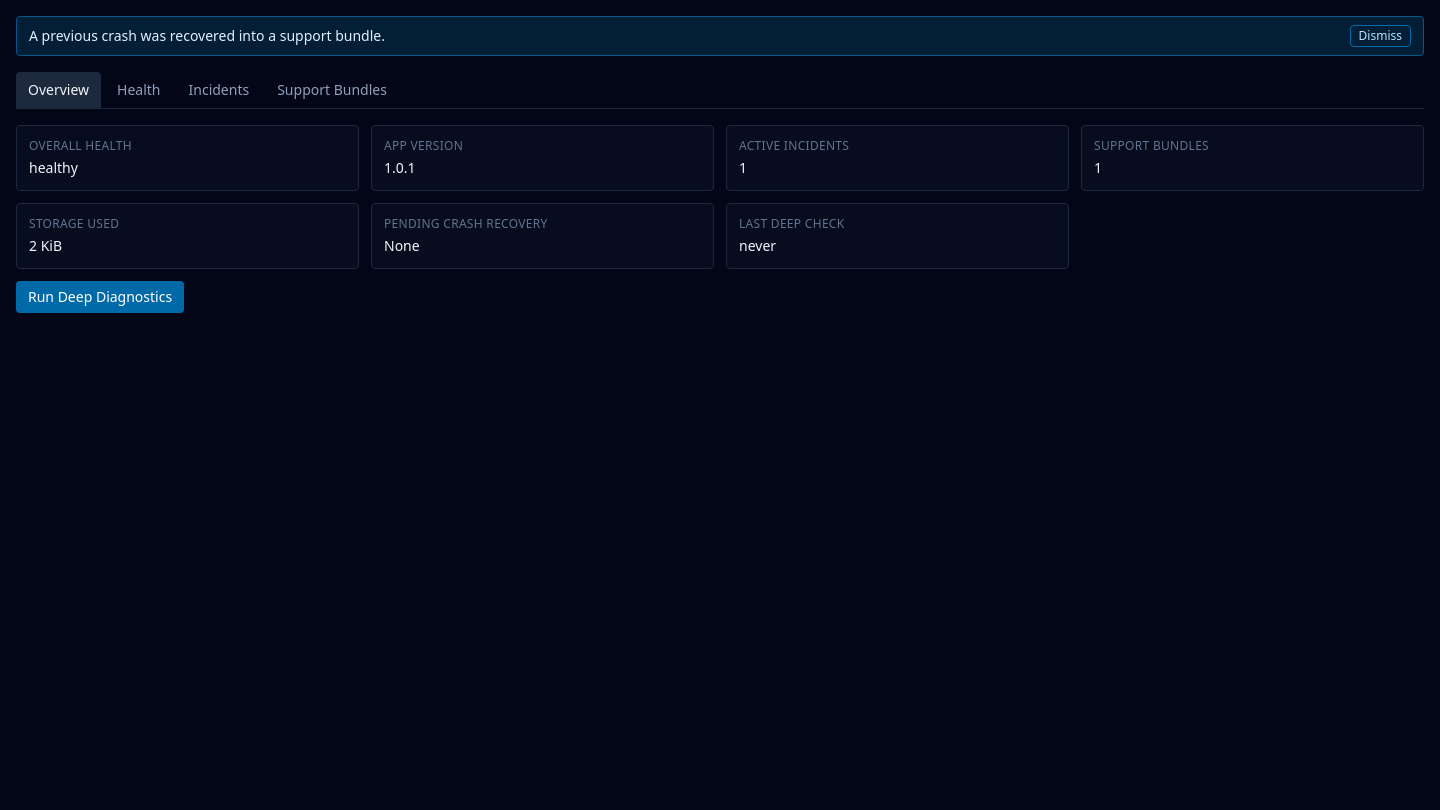
DiagnosticsPage › export failure surfaces typed error without crashing
Click the tab "Support Bundles". click: {"x": 332, "y": 90}
box: [265,72,399,108]
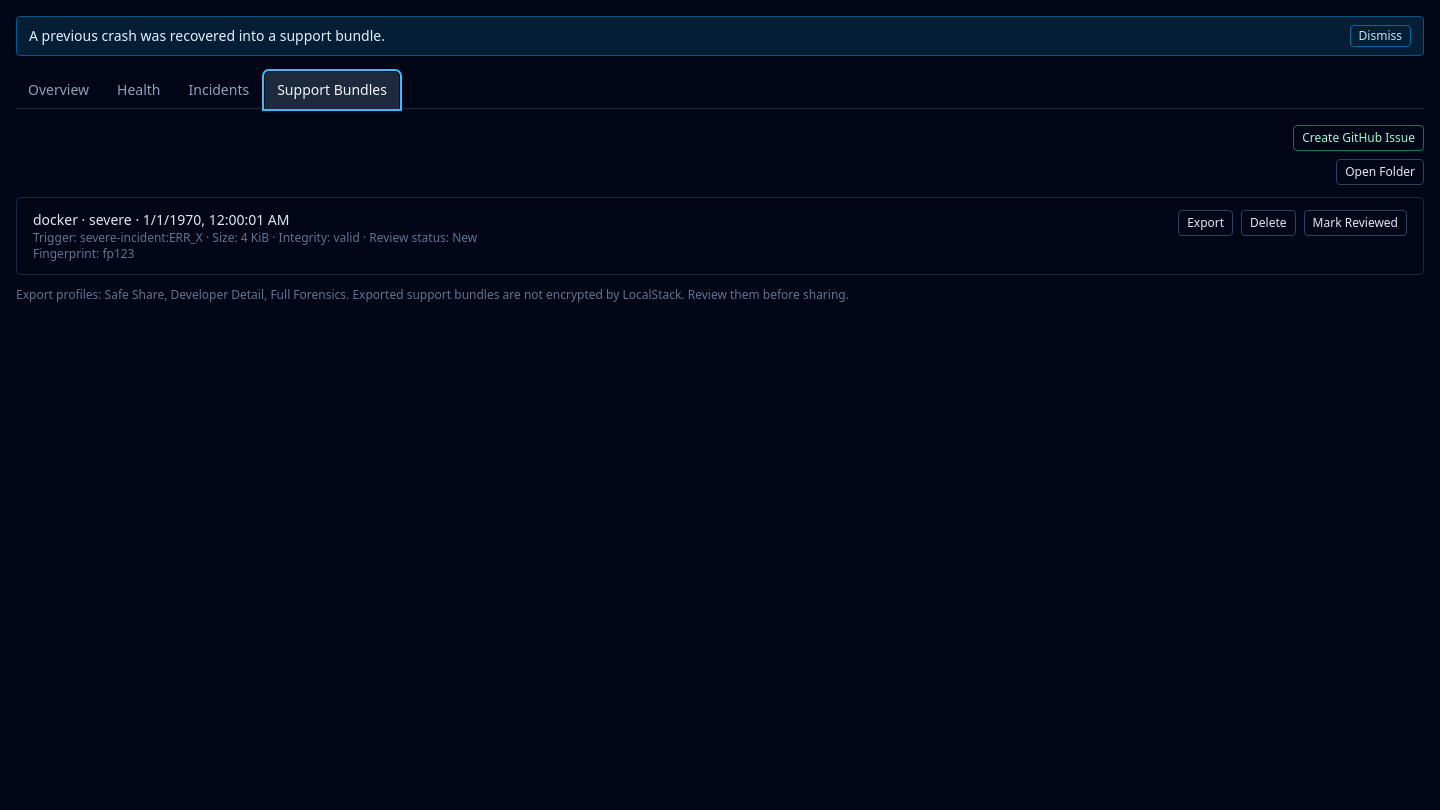
Click the button "Export". click: {"x": 1206, "y": 223}
box: [1178,210,1233,236]
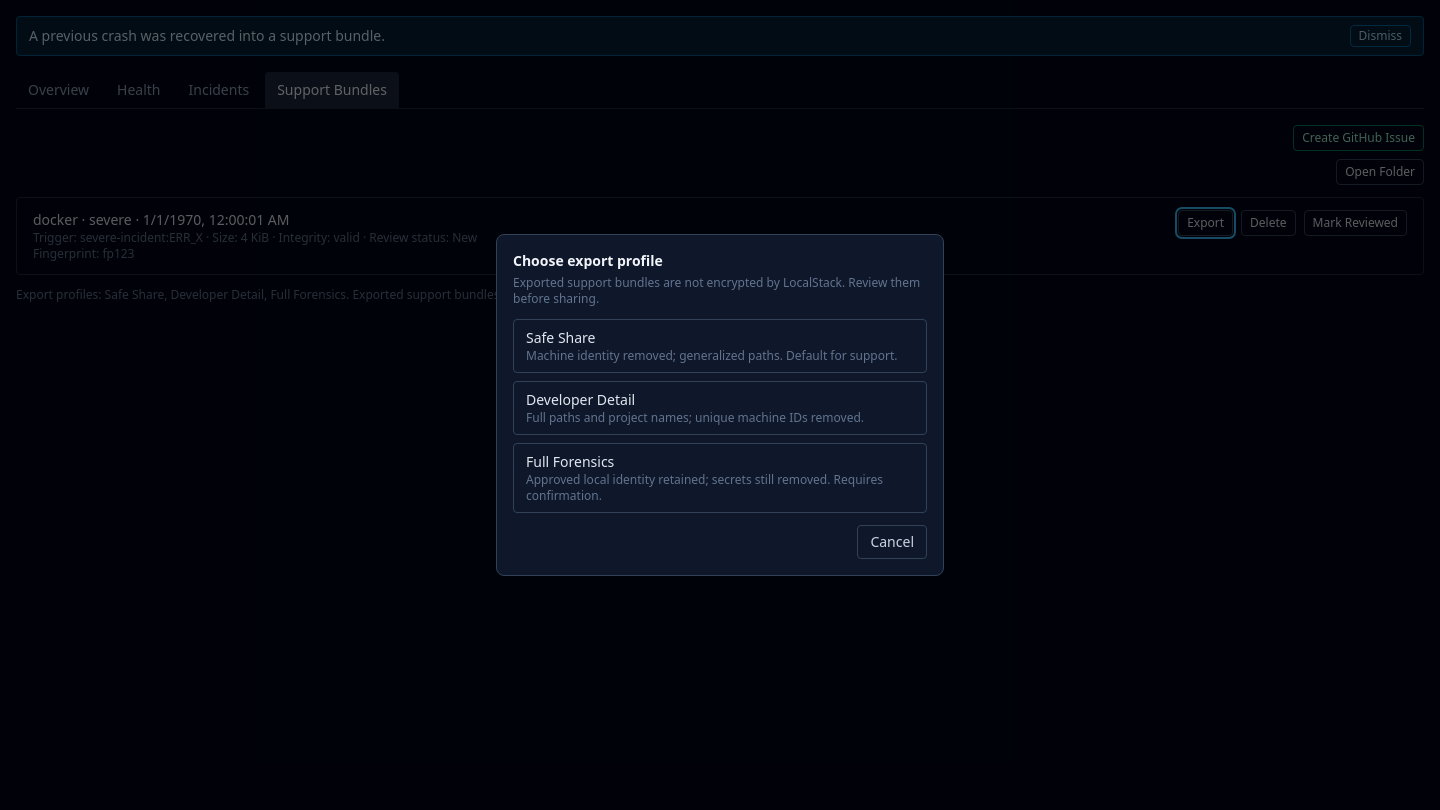
Click the button "Safe Share". click: {"x": 720, "y": 346}
box: [513,319,927,373]
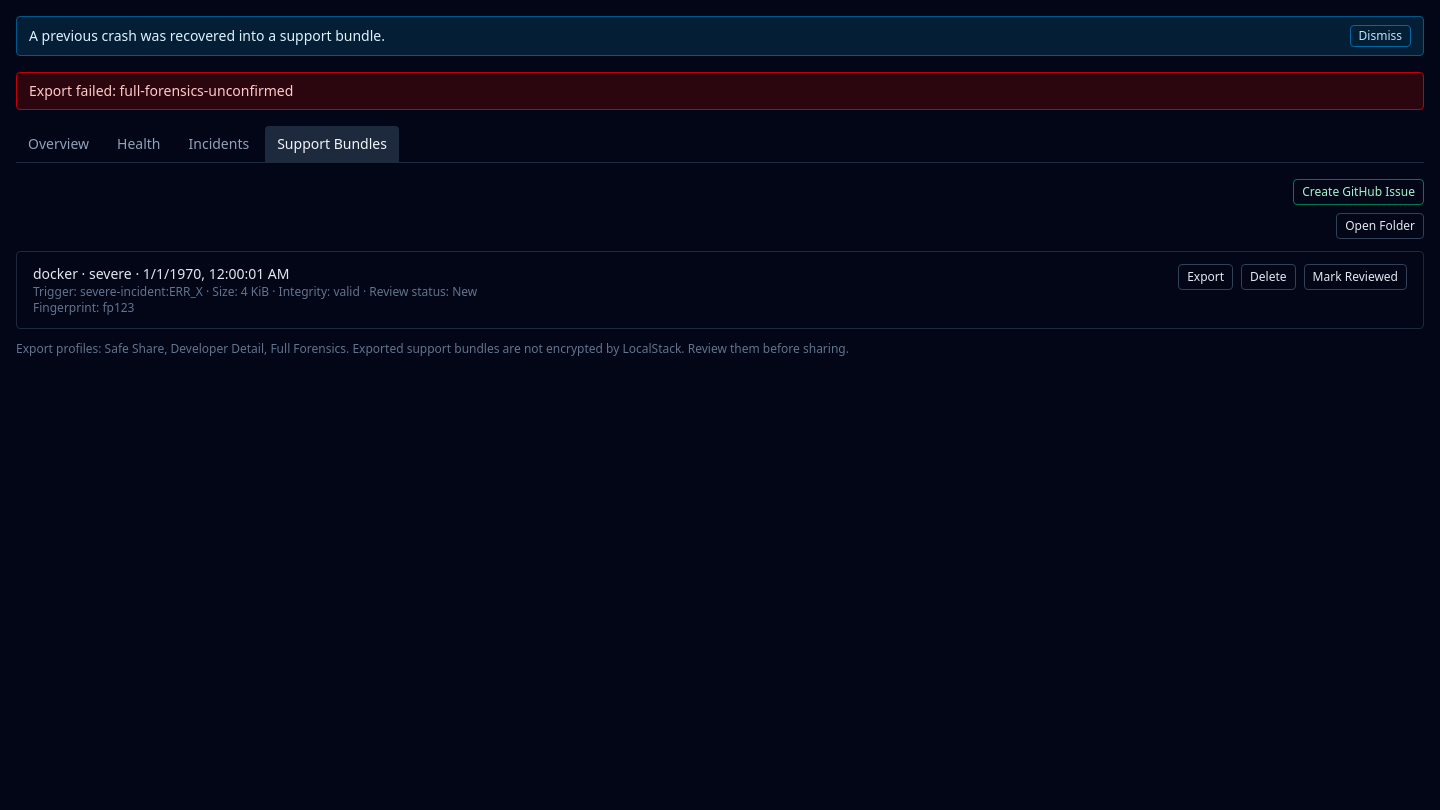
Check: the tab "Health" is shown, box [105,126,173,162]
Check: the message "Export failed: full-forensics-unconfirmed" is shown, box [16,72,1424,110]
